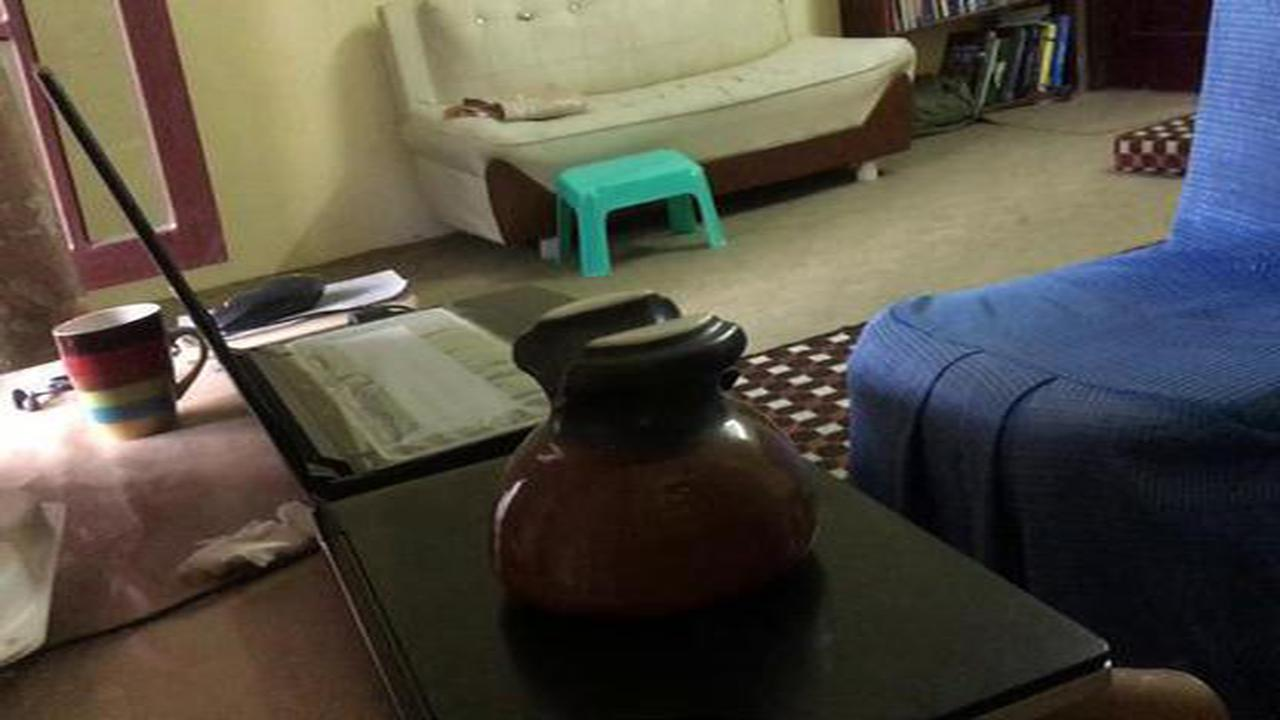insulator_pin: (473, 277, 847, 644)
